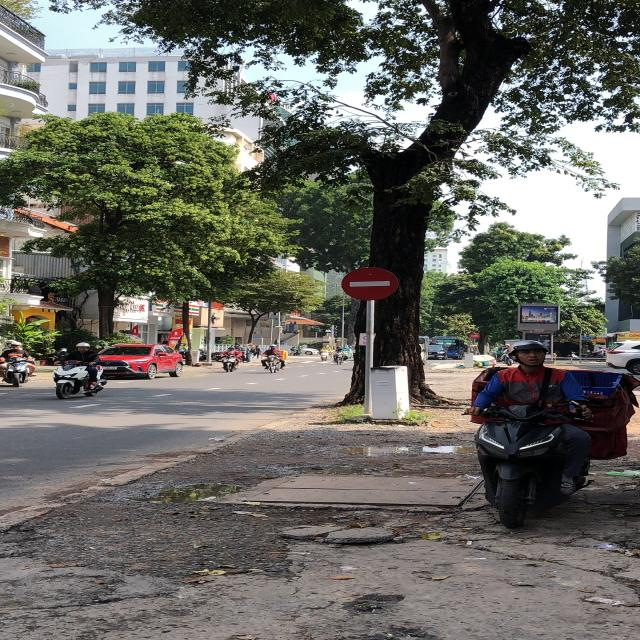Bien bao cam di nguoc chieu: (334, 262, 404, 304)
